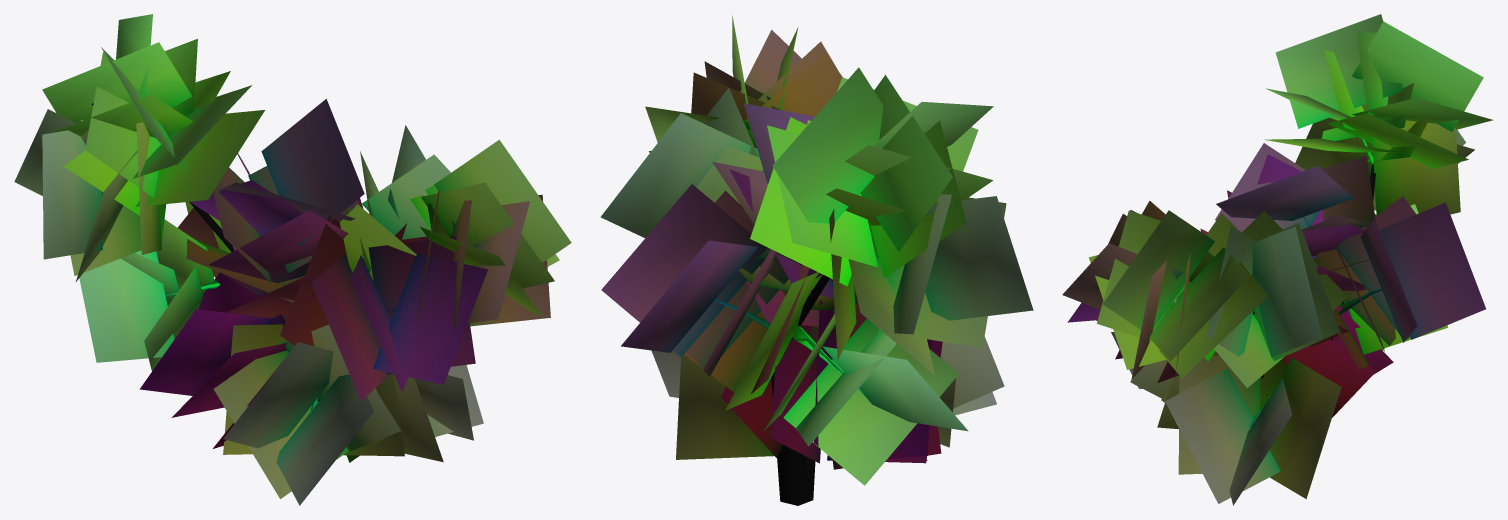
File: URP_P15_Tree_6_LOD_3.fbx
3 views of the same model, side by side, from view 1: azimuth 30°, elevation 25°; view 2: azimuth 150°, elevation 25°; view 3: azimuth 270°, elevation 25° (orthographic). The views are drawn at different scales.
Visible parts, largest first — view 1: Tree_6_LOD_3; view 2: Tree_6_LOD_3; view 3: Tree_6_LOD_3.
Boxes of the visible parts, bbox=[...] form: Tree_6_LOD_3: bbox=[14, 14, 571, 505]; Tree_6_LOD_3: bbox=[600, 15, 1033, 505]; Tree_6_LOD_3: bbox=[1062, 14, 1493, 505].
Bounding box in the file's own units: 723 × 722 × 704.
